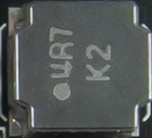Induktor: (2, 0, 148, 136)
